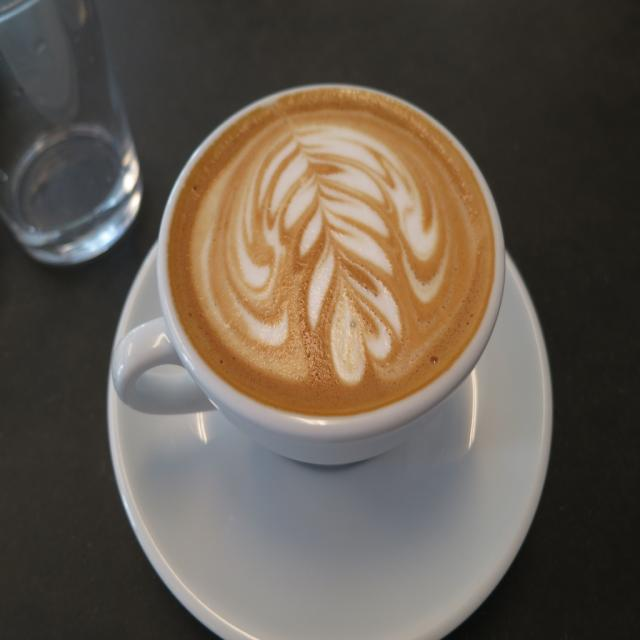Coffee: (157, 69, 541, 394)
